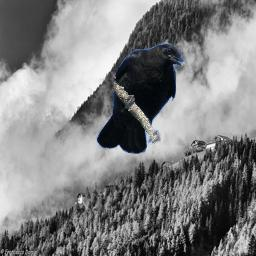Crow: (96, 43, 187, 155)
